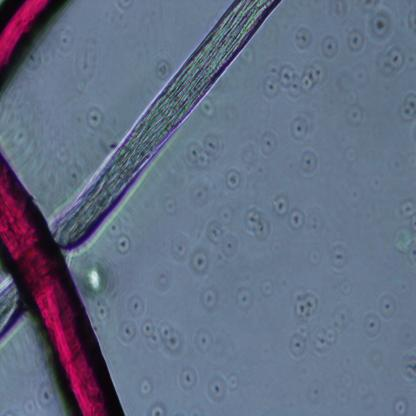Background material: (289, 285, 354, 355), (118, 292, 186, 358), (263, 60, 328, 104), (337, 57, 379, 116), (80, 260, 116, 322), (387, 195, 416, 267), (209, 206, 242, 268), (275, 195, 327, 231), (74, 34, 106, 90), (361, 1, 397, 47), (184, 129, 224, 170), (362, 290, 395, 338), (173, 236, 210, 278), (204, 368, 242, 404), (398, 323, 416, 386), (379, 44, 407, 79), (177, 362, 203, 396), (107, 220, 131, 256), (186, 181, 213, 212), (246, 208, 272, 240), (222, 164, 245, 197), (291, 23, 313, 55), (318, 33, 342, 61), (297, 148, 320, 177), (290, 115, 312, 144), (330, 245, 352, 273), (58, 19, 76, 53), (84, 105, 104, 132), (346, 28, 366, 55), (260, 130, 280, 156), (200, 287, 220, 312), (64, 161, 84, 186), (400, 90, 416, 120), (194, 329, 214, 353), (154, 56, 173, 81), (235, 286, 253, 312), (260, 276, 278, 298), (391, 396, 409, 416), (138, 376, 154, 398), (161, 191, 176, 214), (150, 400, 168, 416)
Microfibre: (0, 0, 282, 338), (0, 153, 126, 415), (0, 0, 76, 102)
